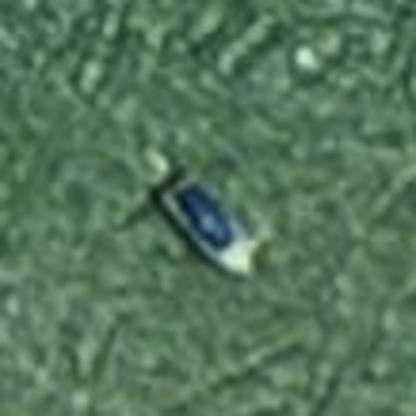ship: (145, 157, 259, 286)
